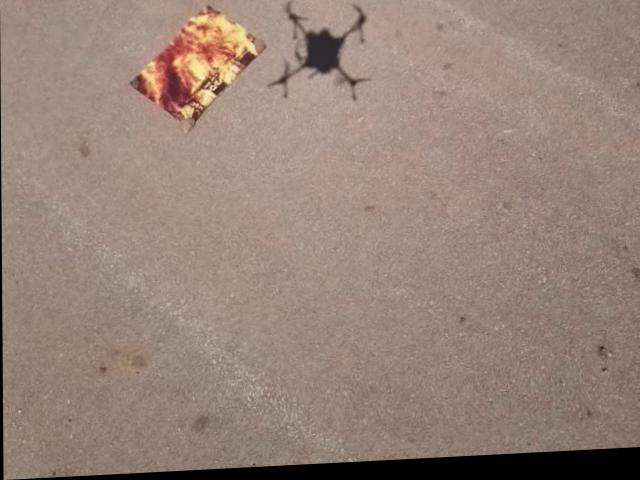fire-poster: (128, 3, 268, 140)
